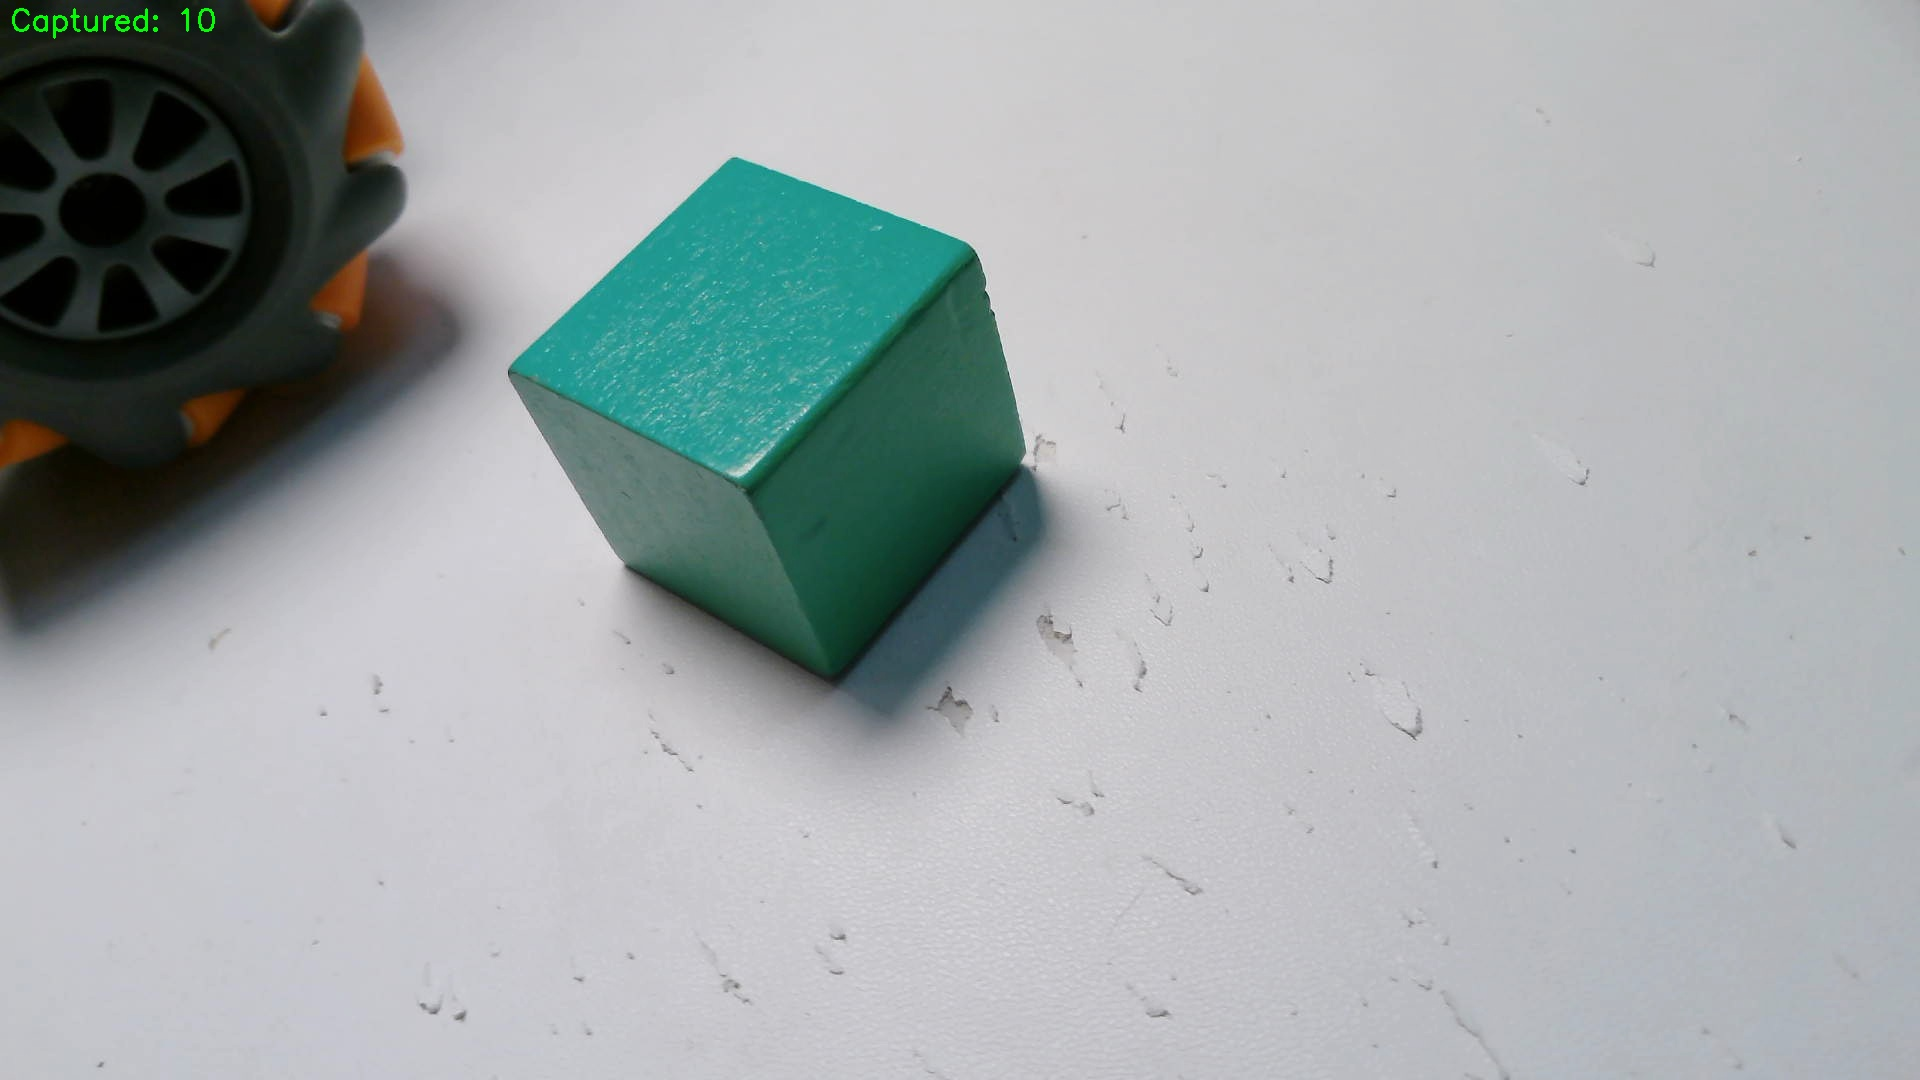green: (520, 157, 1029, 683)
